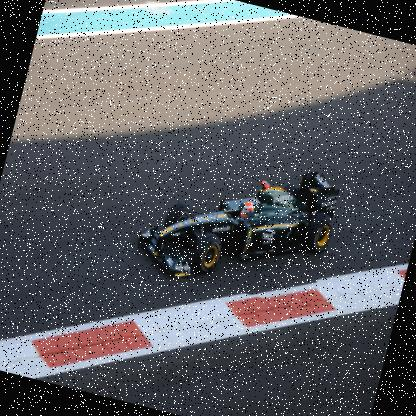Car: (132, 132, 342, 311)
